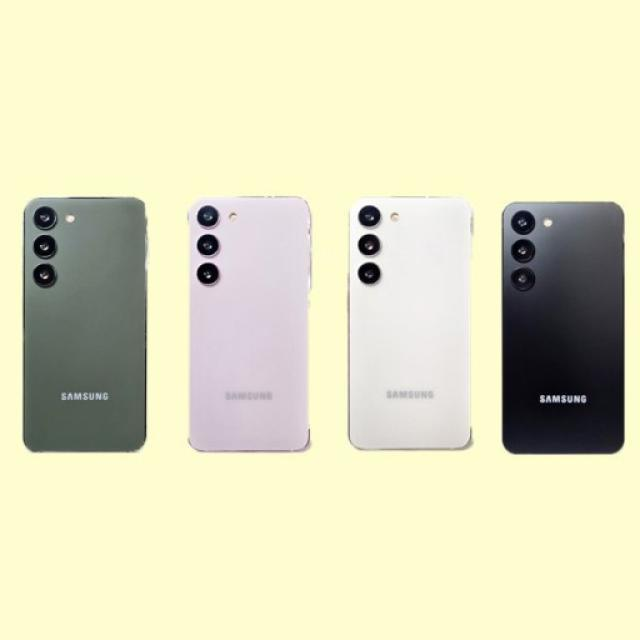phone: (22, 198, 150, 462), (346, 192, 474, 456), (500, 192, 628, 454), (190, 193, 310, 458)
